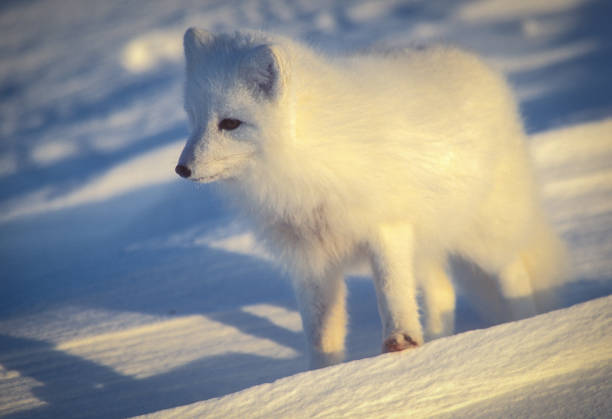arcticfox: (172, 58, 282, 196)
